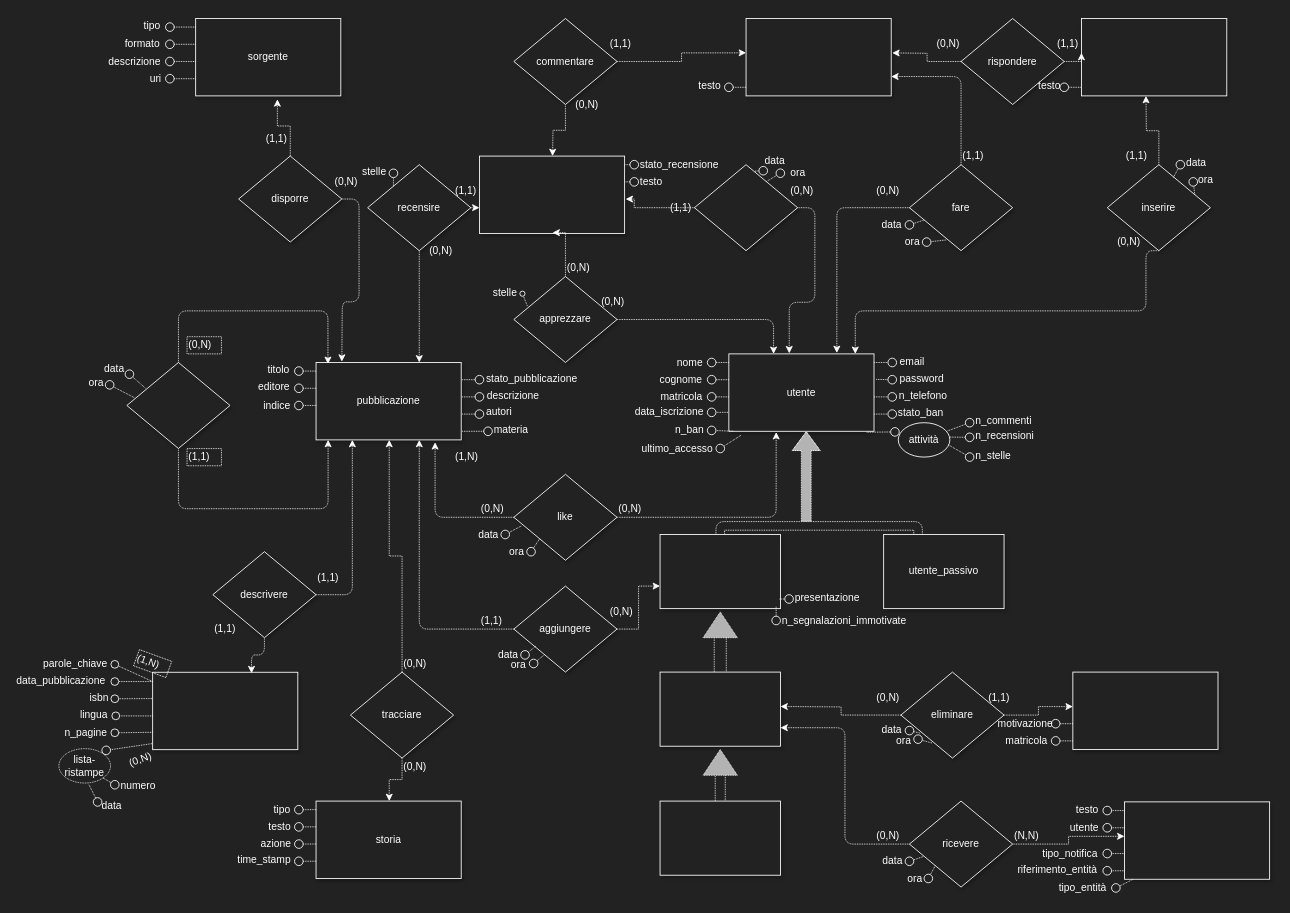
The diagram is 1290 pixels wide and 913 high, and some of its shapes have lost their labels. The shapes that lost their labels are listed below. From the top down, each one's centre as x and y in pixels, then its label:
At (x=819, y=58): "commento".
At (x=1154, y=58): "risposta".
At (x=552, y=196): "recensione".
At (x=746, y=208): "rilasciare".
At (x=179, y=406): "aggiornare".
At (x=721, y=572): "utente_attivo".
At (x=225, y=712): "metadato".
At (x=721, y=710): "utente_moderatore".
At (x=1146, y=712): "utente_bannato".
At (x=721, y=839): "utente_gestore".
At (x=1197, y=841): "notifica".
